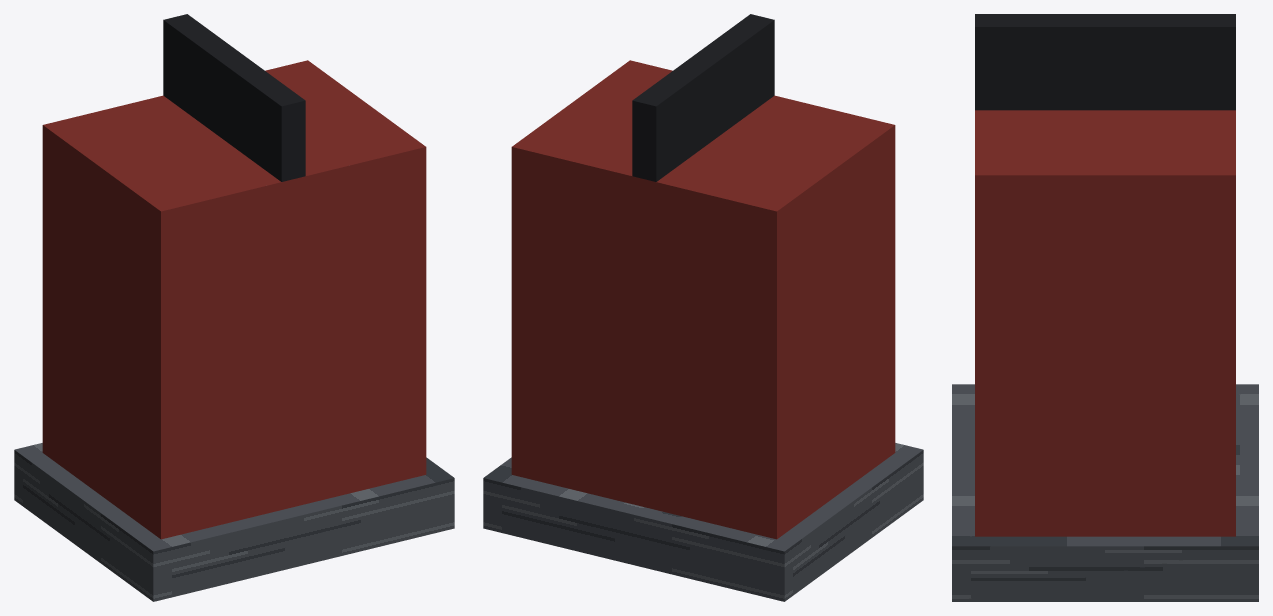
The model's file is COM_BasketStack.glb.
3 views of the same model, side by side, from view 1: azimuth 30°, elevation 25°; view 2: azimuth 150°, elevation 25°; view 3: azimuth 270°, elevation 25° (orthographic). The views are drawn at different scales.
Visible parts, largest first — view 1: COM_BasketStack_Mesh; view 2: COM_BasketStack_Mesh; view 3: COM_BasketStack_Mesh.
Boxes of the visible parts, x1,y1,x2,y2 form: COM_BasketStack_Mesh: (14,14,454,601); COM_BasketStack_Mesh: (483,14,923,601); COM_BasketStack_Mesh: (952,14,1258,601).
Size of what is drawn, in the model's own units: 0.5 by 0.72 by 0.4.
Materials: 1 (1 with a texture image).
